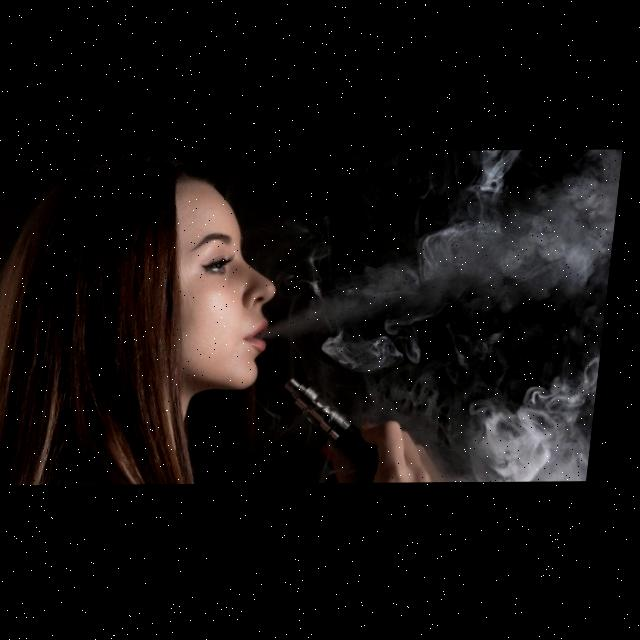vape: (284, 379, 396, 485)
